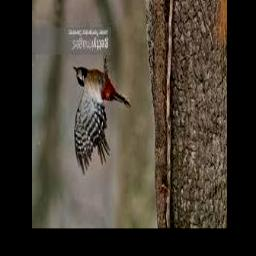Woodpecker: (73, 57, 131, 176)
